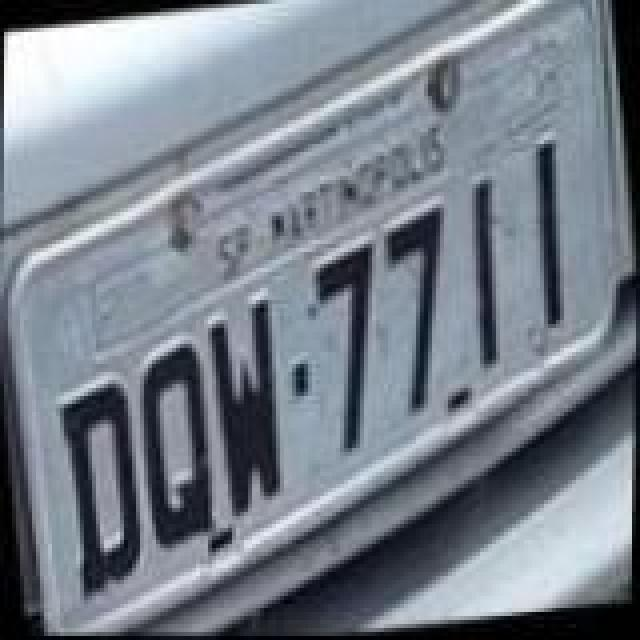1: (456, 178, 516, 374), (522, 140, 582, 336)
7: (306, 236, 402, 460), (376, 202, 468, 418)
D: (50, 376, 154, 604)
Q: (130, 336, 230, 552)
W: (204, 296, 300, 520)
